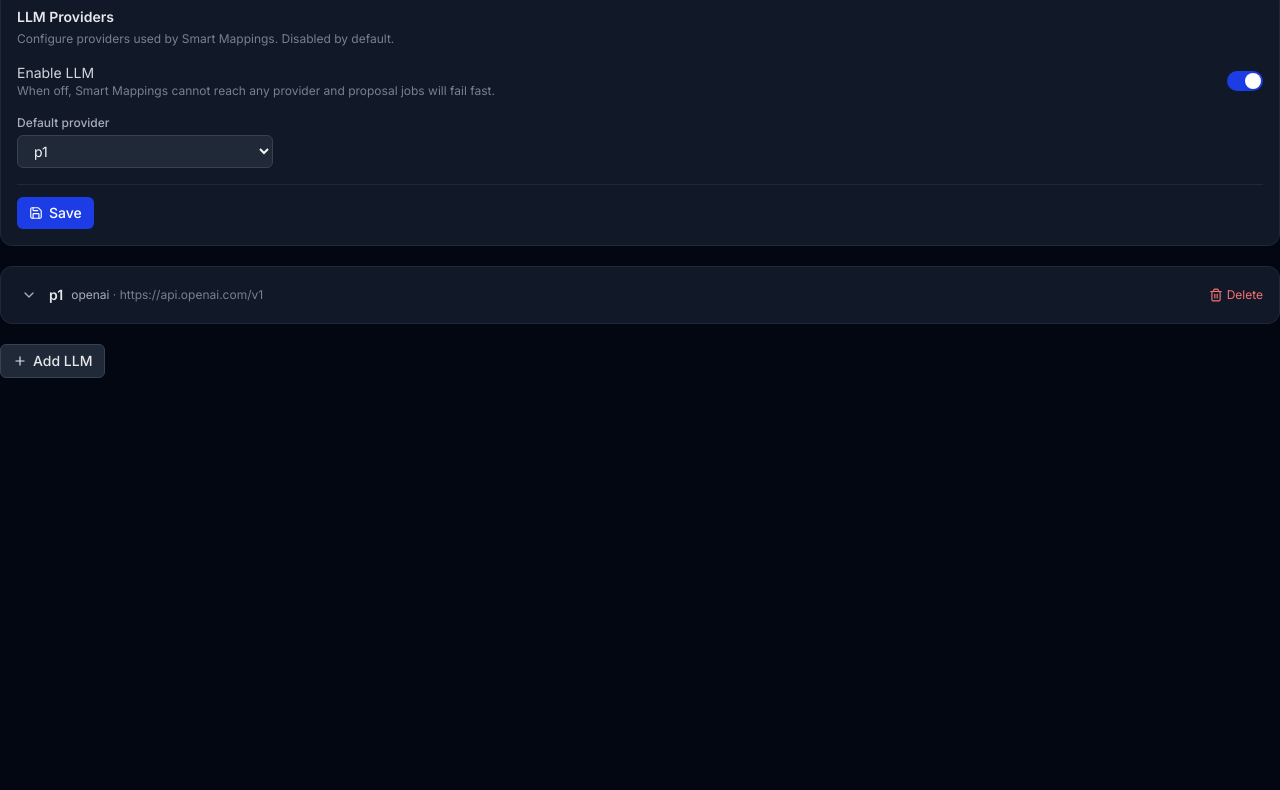
Test: ProviderCard (027 step 5: Discover-then-Probe per-card surface) › "Discover Models" surfaces the inline error when the upstream returns zero models
Click the button named "Expand p1".
click(29, 295)  # box [17,283,41,307]
(page scrolled)
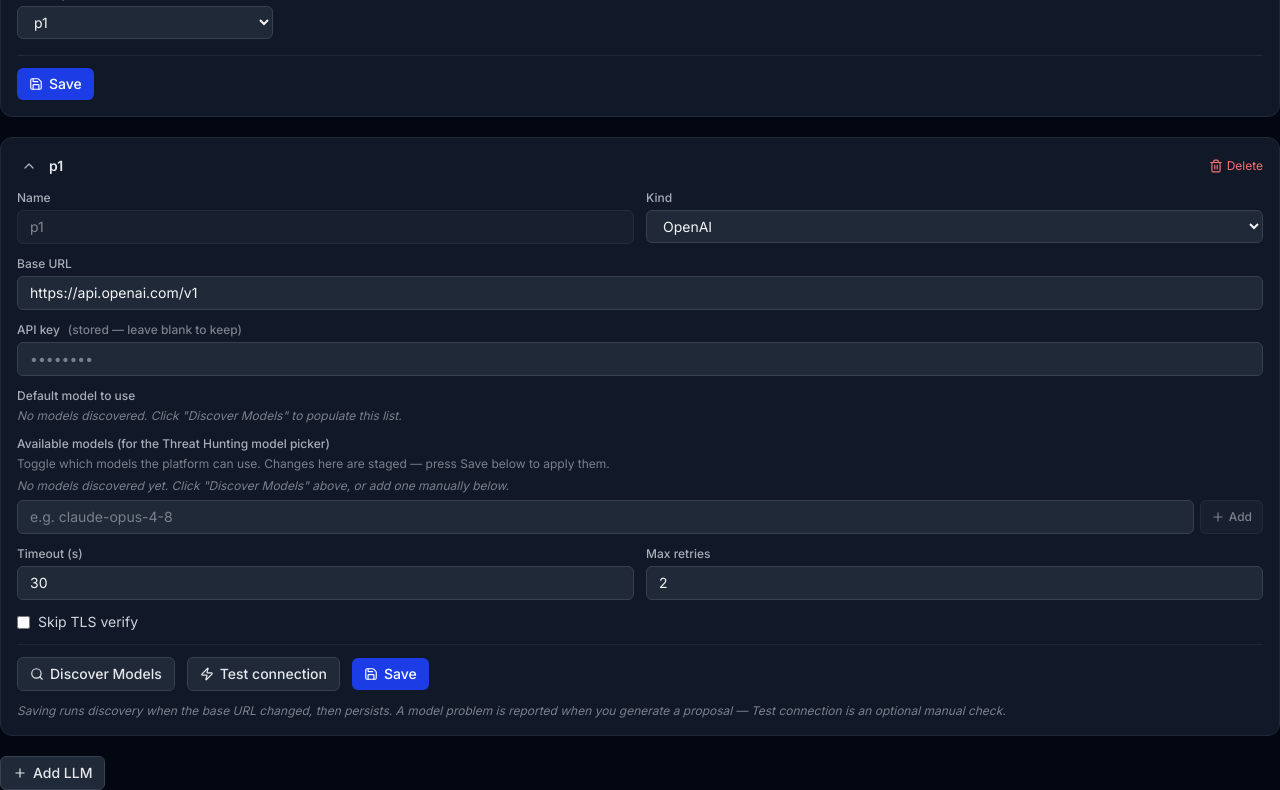
Click the button "Discover Models".
click(96, 674)  # box [17,657,175,691]
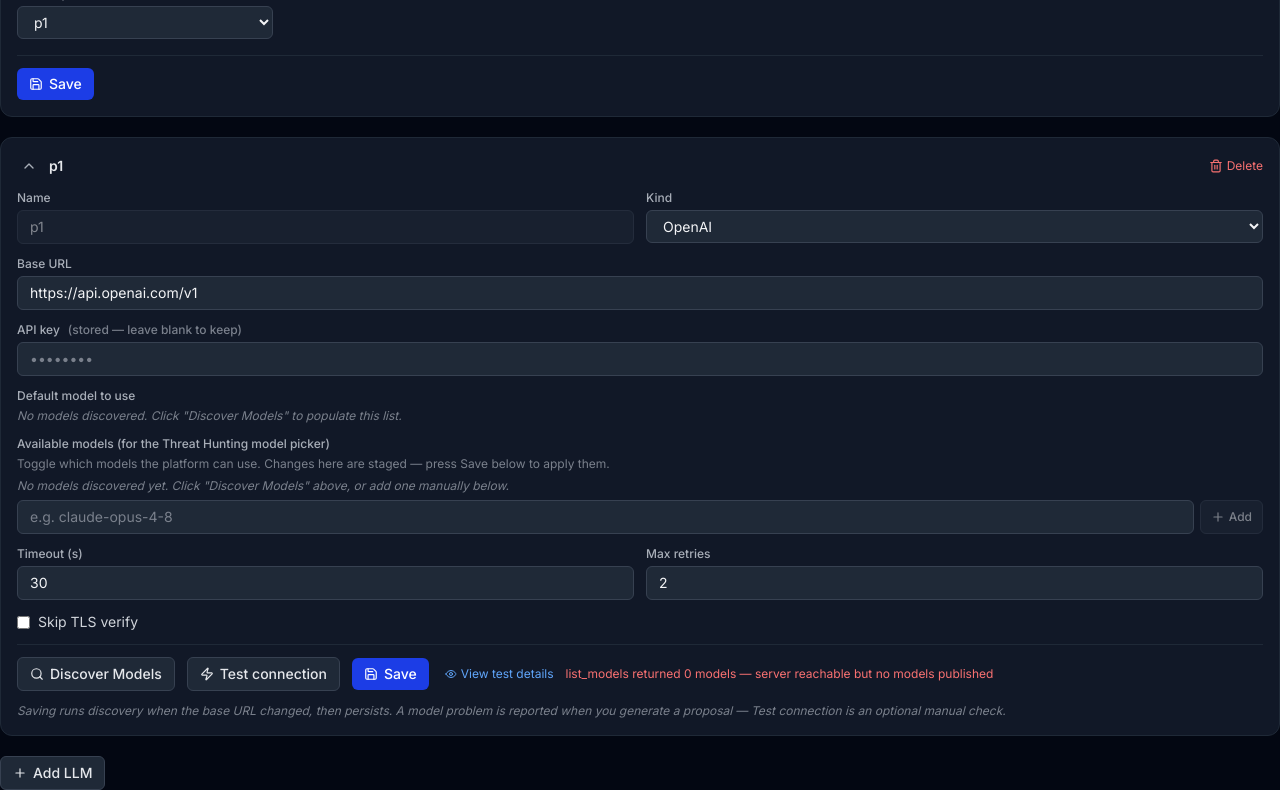
expect the text "list_models returned 0 models — server reachable but no models published" is shown: met, box [566,666,993,682]
